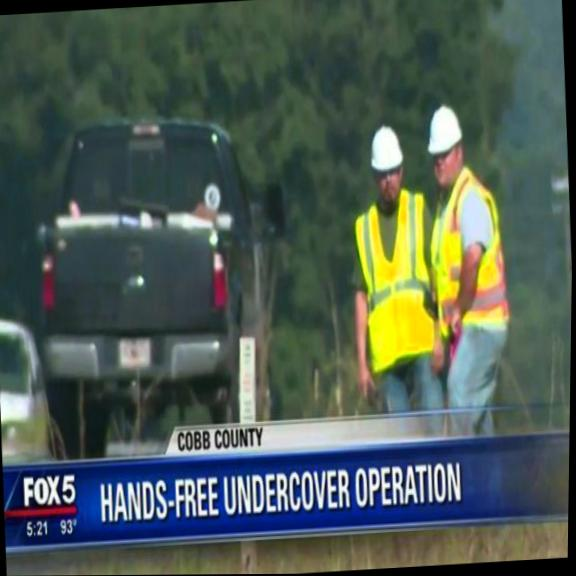safety_vest: (355, 189, 447, 389), (427, 182, 508, 346)
